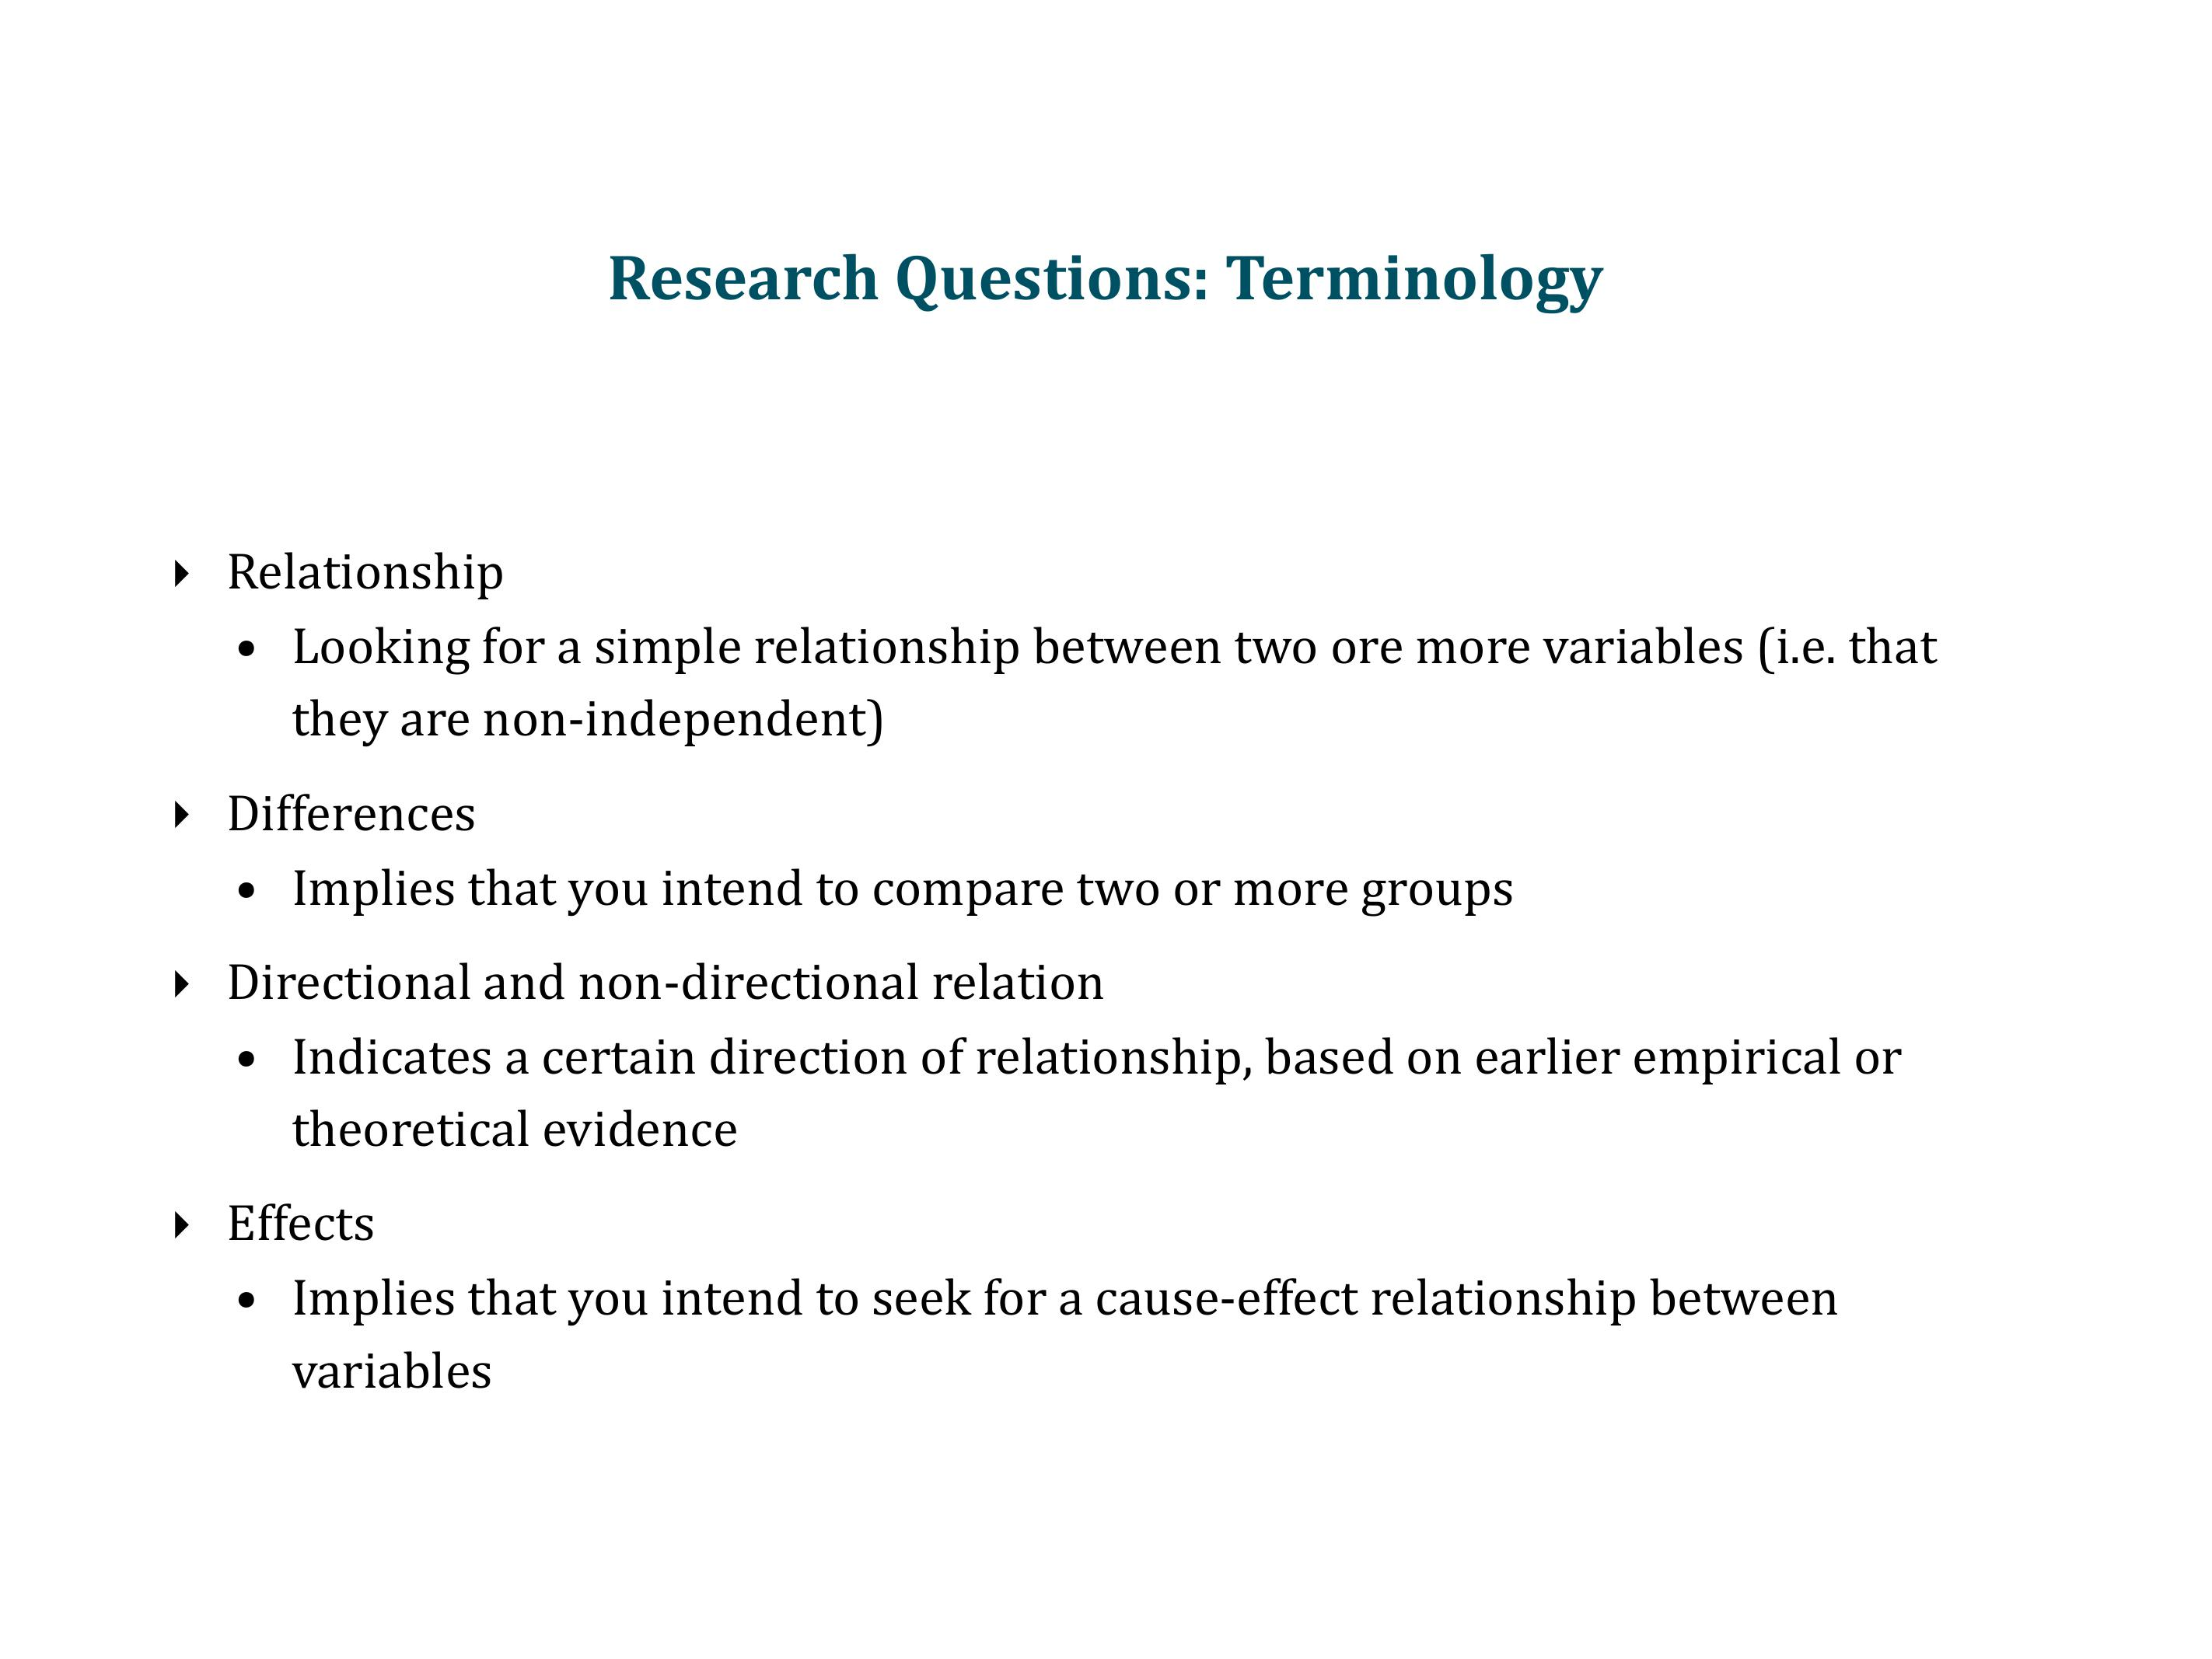Title: (586, 237, 1630, 328)
